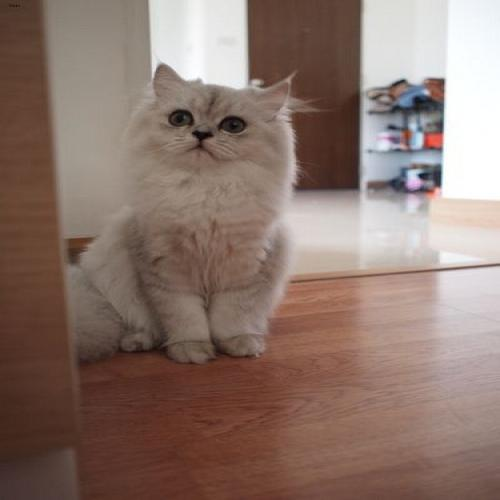persian: (123, 56, 312, 188)
